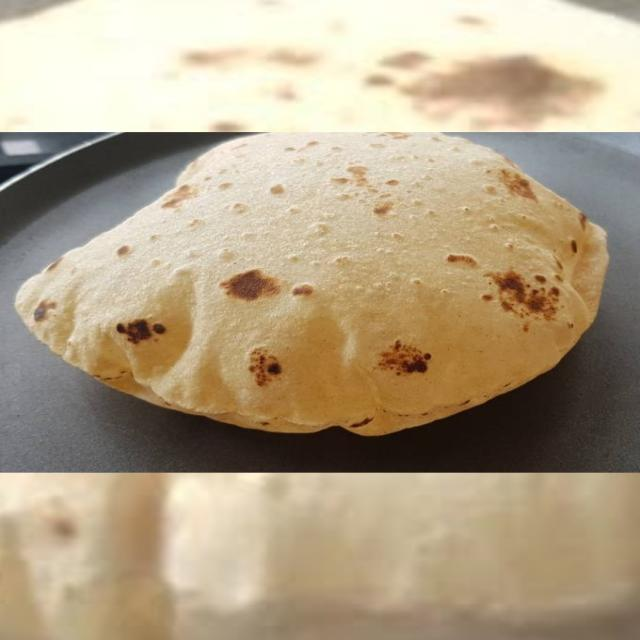ROTI: (14, 131, 612, 437)
